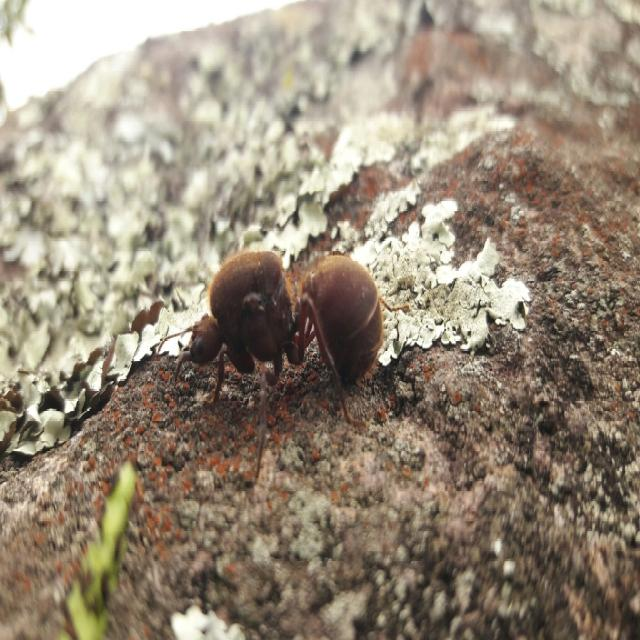Alive-Female-Dealate: (157, 247, 410, 479)
